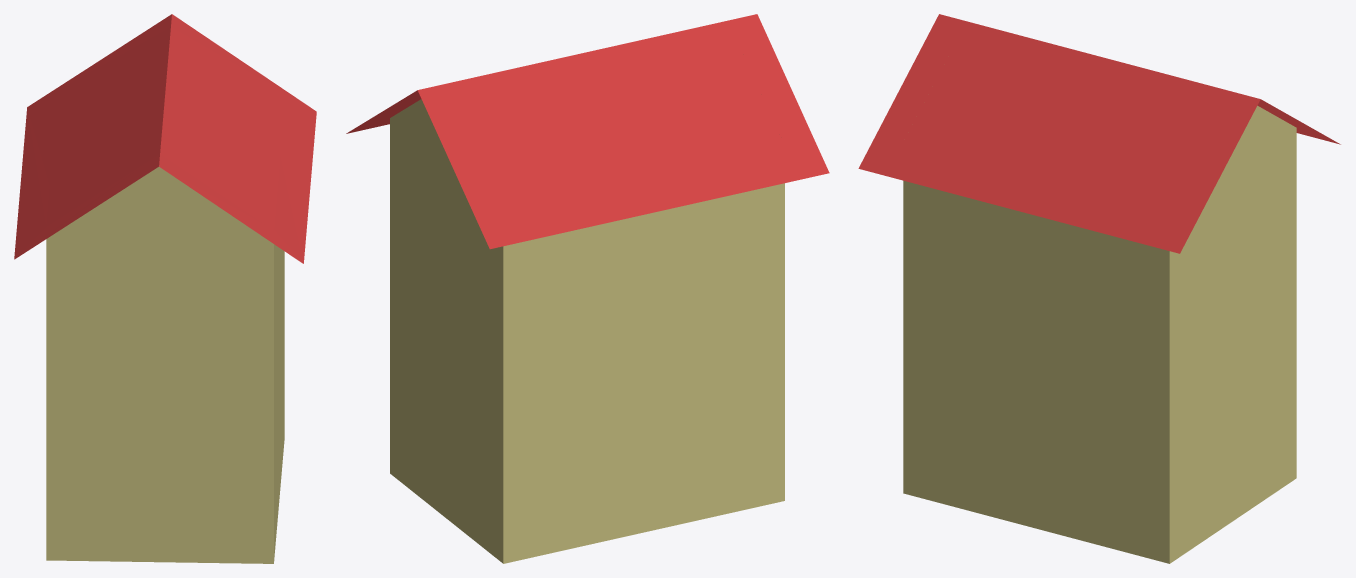
The picture shows the model from 3 angles, left to right: view 1: azimuth 30°, elevation 25°; view 2: azimuth 150°, elevation 25°; view 3: azimuth 270°, elevation 25°; orthographic projection. The views are drawn at different scales.
Bounding box in the file's own units: 7.06 × 7.42 × 7.28.
